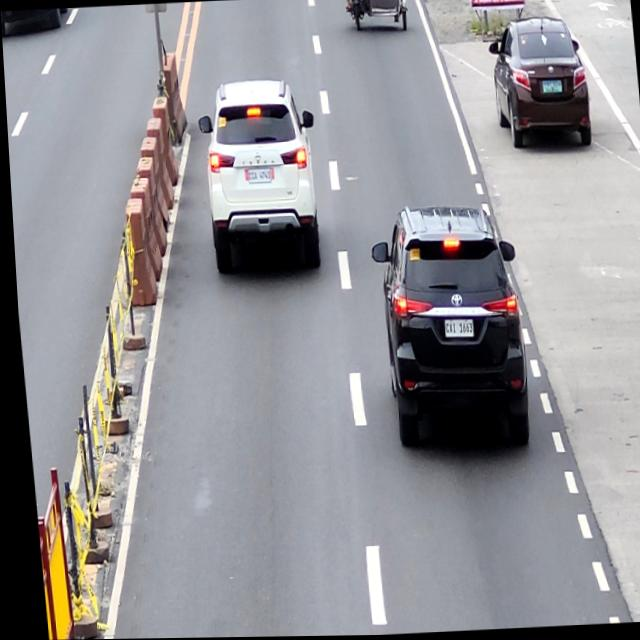Car: (364, 202, 531, 461), (192, 79, 323, 276), (485, 18, 591, 153)
License-Plate: (440, 320, 470, 341), (244, 168, 269, 186), (540, 81, 561, 94)
